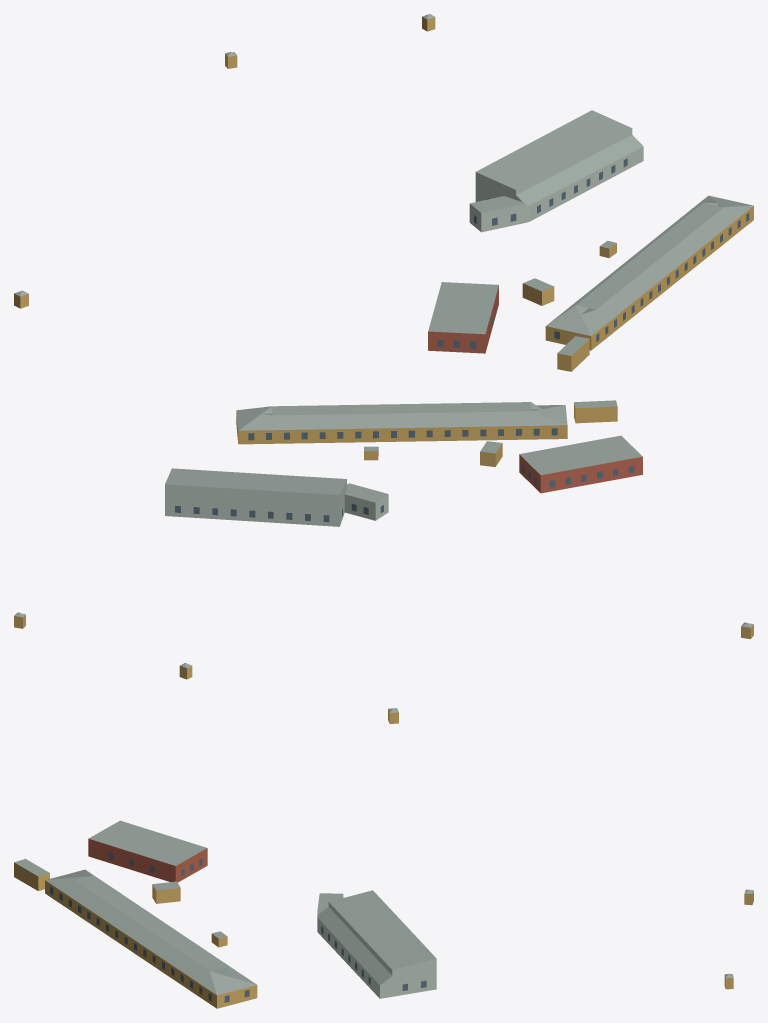
File: moscow-kremlin-service-buildings.glb
3 views of the same model, one above another, from view 1: azimuth 30°, elevation 25°; view 2: azimuth 150°, elevation 25°; view 3: azimuth 270°, elevation 25° (orthographic). The views are drawn at different scales.
Parts seen in each view (by area): view 1: Kremlin service buildings by the Borovitskaya Tower; view 2: Kremlin service buildings by the Borovitskaya Tower; view 3: Kremlin service buildings by the Borovitskaya Tower.
Part boxes in pixels (x1=…): Kremlin service buildings by the Borovitskaya Tower: x1=14, y1=14, x2=753, y2=371; Kremlin service buildings by the Borovitskaya Tower: x1=14, y1=400, x2=753, y2=679; Kremlin service buildings by the Borovitskaya Tower: x1=14, y1=708, x2=753, y2=1008.
Size of the model in its own units: 140 by 7 by 151.
